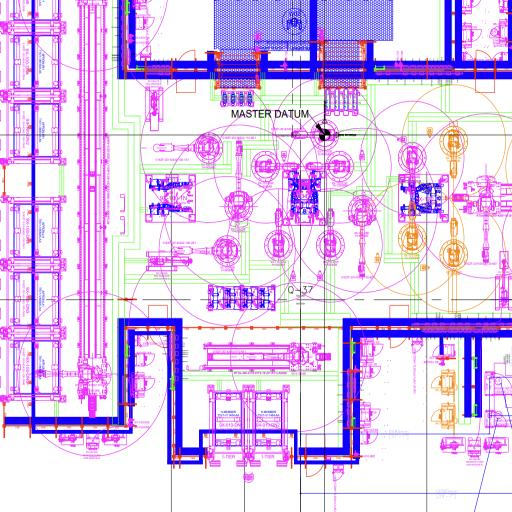robot: (151, 131, 224, 166), (347, 194, 377, 278), (168, 234, 241, 268), (226, 138, 254, 223), (437, 217, 470, 273), (262, 207, 294, 263), (262, 342, 316, 374), (438, 124, 468, 178), (398, 199, 428, 252), (318, 206, 345, 264), (397, 141, 426, 195), (306, 152, 356, 182), (291, 119, 338, 149)
